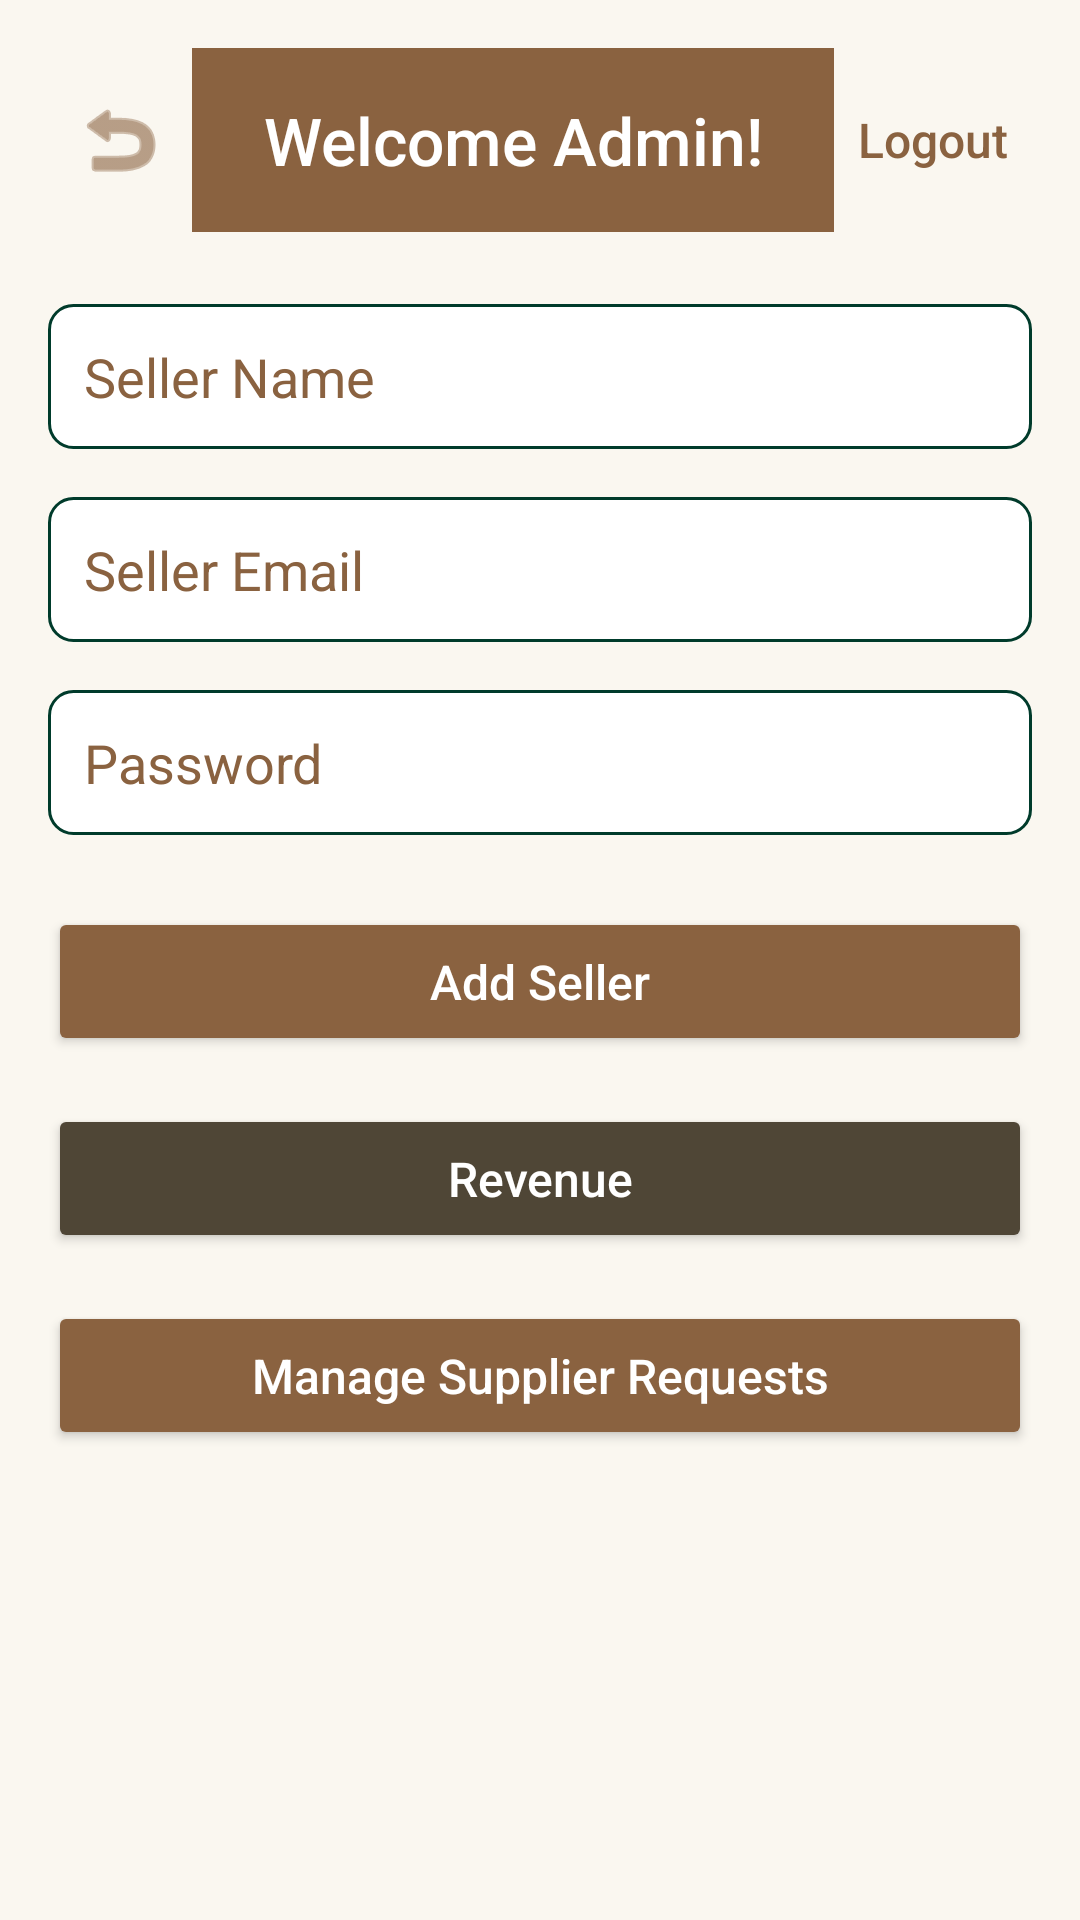

Point at icon controls on the screen. Image size 1080w x 1920h, points as point (x, y).
Back: point (121, 140)
